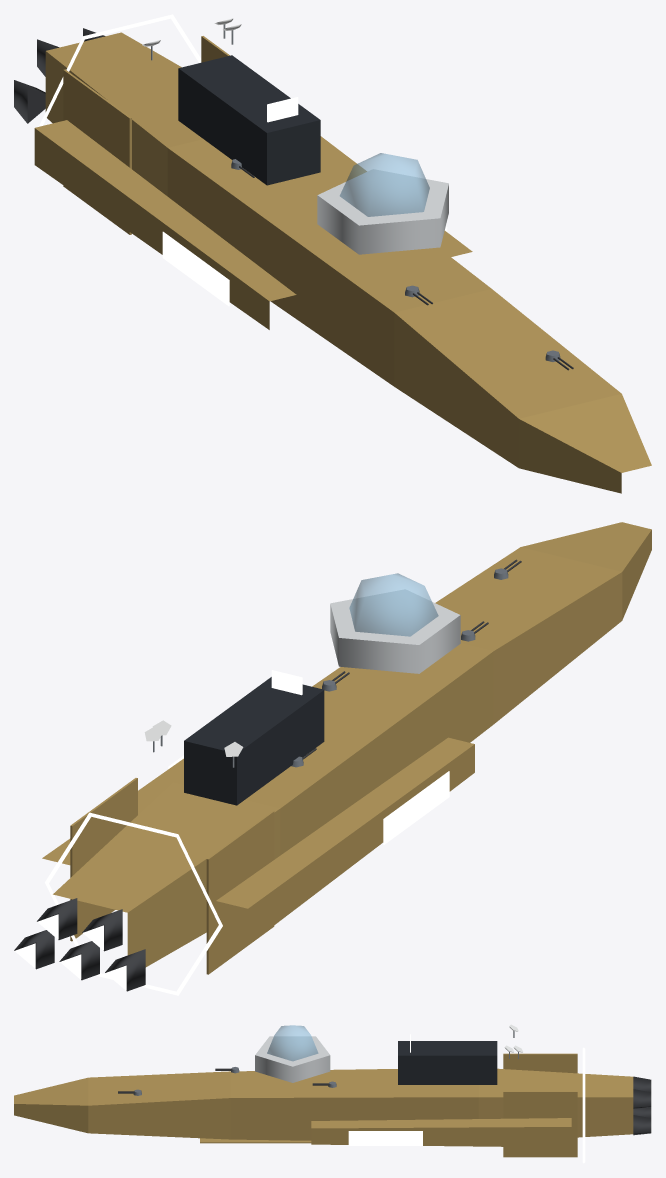
The model's file is space_ship_command_ship_mk7_lod2.glb.
3 renders of one model, top to bottom at view 1: azimuth 30°, elevation 25°; view 2: azimuth 150°, elevation 25°; view 3: azimuth 270°, elevation 25°, orthographic. The views are drawn at different scales.
Parts seen in each view (by area): view 1: body, hangar_r, engine_0; view 2: body, hangar_r, engine_3, engine_0, engine_1, engine_4, engine_2; view 3: body, hangar_l, engine_3, engine_4, engine_1.
Part boxes in pixels (<box>): body: <box>34,14,651,493</box>; hangar_r: <box>162,231,229,306</box>; engine_0: <box>14,80,45,123</box>; body: <box>42,522,651,995</box>; hangar_r: <box>383,771,449,844</box>; engine_3: <box>37,898,77,939</box>; engine_0: <box>105,949,145,991</box>; engine_1: <box>82,909,122,951</box>; engine_4: <box>14,930,54,969</box>; engine_2: <box>59,941,99,980</box>; body: <box>14,1025,633,1163</box>; hangar_l: <box>348,1131,422,1145</box>; engine_3: <box>633,1089,651,1109</box>; engine_4: <box>633,1115,651,1135</box>; engine_1: <box>633,1076,651,1092</box>.
Size of the model in its own units: 31.34 by 30.87 by 142.
